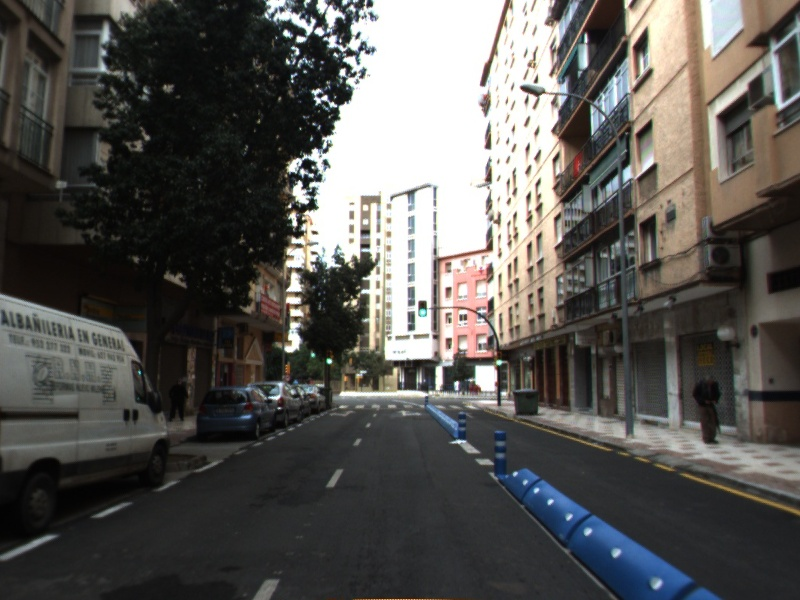STRAIGHT_LEFT: (328, 409, 358, 418)
STRAIGHT_RIGHT: (395, 409, 424, 418)
